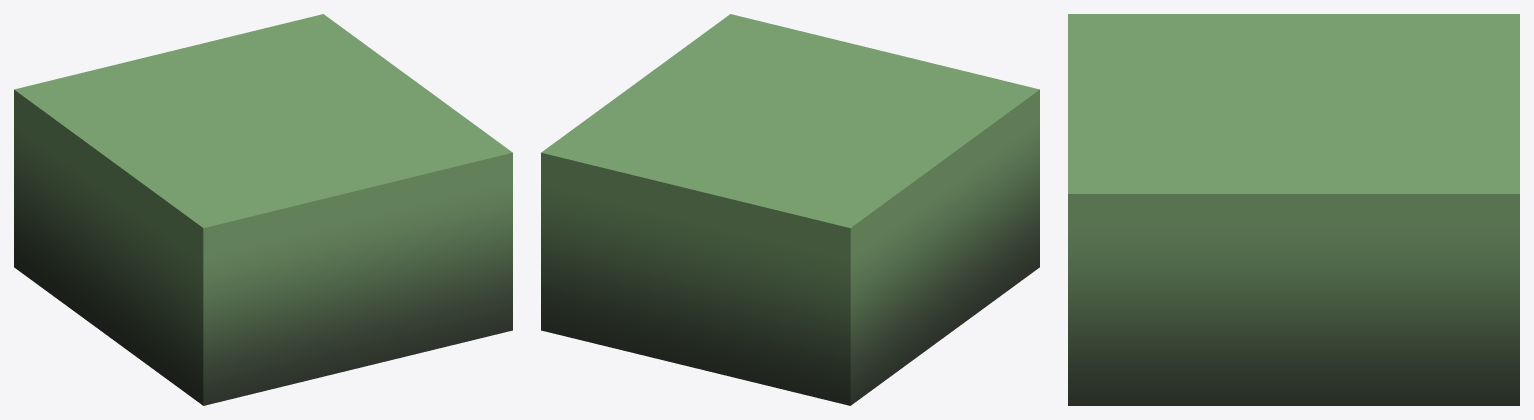
Rendered from Plat01.036.glb.
3 views of the same model, side by side, from view 1: azimuth 30°, elevation 25°; view 2: azimuth 150°, elevation 25°; view 3: azimuth 270°, elevation 25° (orthographic). The views are drawn at different scales.
Parts seen in each view (by area): view 1: Plat01.036; view 2: Plat01.036; view 3: Plat01.036.
Part boxes in pixels (x1,y1,x2,y2): Plat01.036: [14, 14, 512, 405]; Plat01.036: [541, 14, 1039, 405]; Plat01.036: [1068, 14, 1519, 405].
Size of what is drawn, in the model's own units: 3.12 by 1.71 by 3.31.
1 material, 1 textured.
